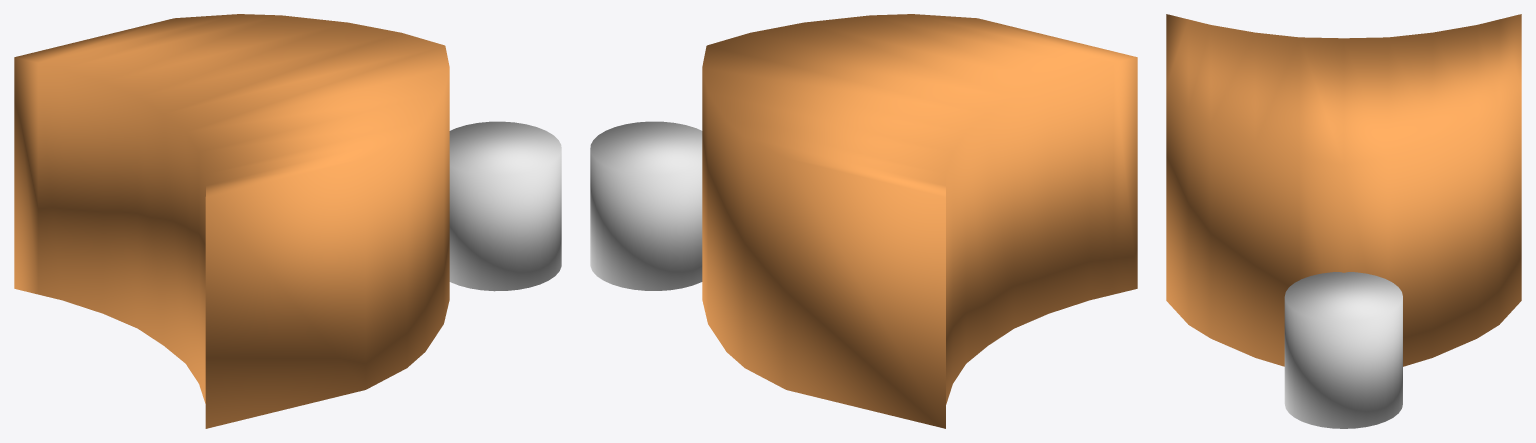
The model's file is NOR-transformed.glb.
3 renders of one model, left to right at view 1: azimuth 30°, elevation 25°; view 2: azimuth 150°, elevation 25°; view 3: azimuth 270°, elevation 25°, orthographic. The views are drawn at different scales.
Parts seen in each view (by area): view 1: 3, Cot3; view 2: 3, Cot3; view 3: 3, Cot3.
Part boxes in pixels (x1,y1,x2,y2): 3: (14,14,449,428); Cot3: (449,121,561,291); 3: (702,14,1137,428); Cot3: (590,121,702,290); 3: (1166,14,1521,366); Cot3: (1284,272,1402,428).
Bounding box in the file's own units: 4.01 × 2 × 3.
